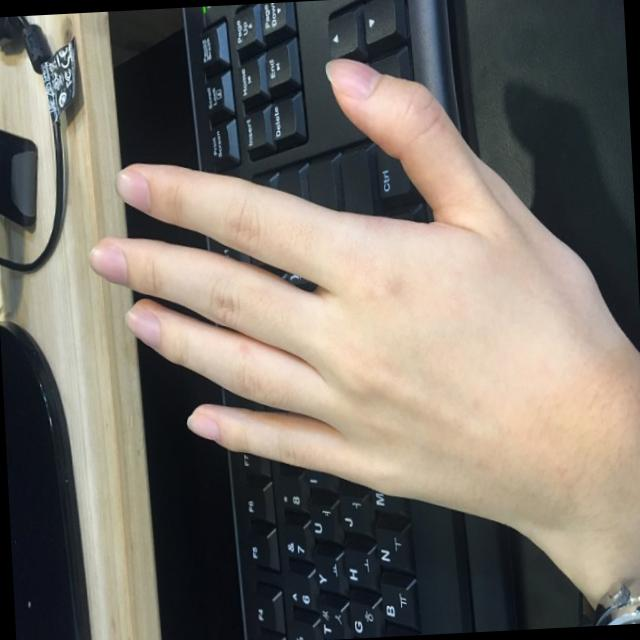Nail: (326, 57, 378, 100), (90, 244, 128, 286), (116, 167, 150, 213), (127, 303, 161, 349), (188, 408, 221, 442)
